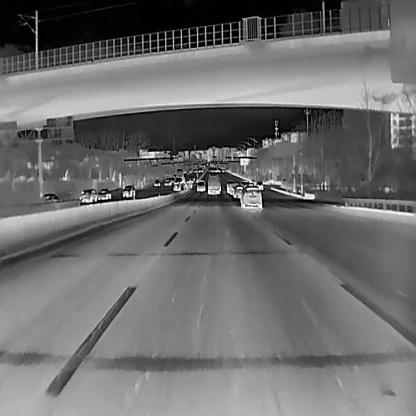car: (240, 184, 262, 208), (80, 188, 98, 202), (226, 180, 239, 194), (96, 188, 111, 199), (42, 192, 58, 202), (122, 184, 135, 196), (233, 184, 243, 198), (196, 179, 205, 190), (173, 180, 181, 190), (153, 179, 160, 185), (164, 178, 171, 184)
truck: (207, 172, 220, 194)
